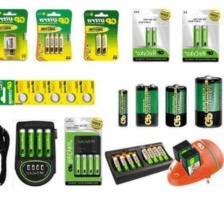battery: (193, 74, 222, 129), (134, 81, 159, 129), (165, 81, 186, 128), (181, 146, 201, 177), (116, 84, 129, 131), (171, 137, 191, 166), (1, 32, 18, 58), (17, 126, 28, 159), (34, 126, 45, 158), (43, 126, 53, 158), (140, 148, 155, 166), (27, 126, 35, 158), (118, 154, 132, 172), (92, 32, 102, 57), (124, 153, 137, 170), (129, 151, 142, 168), (147, 147, 160, 164), (156, 144, 169, 161), (151, 146, 165, 161), (201, 24, 209, 49), (100, 32, 108, 56), (73, 152, 81, 176), (149, 26, 158, 47), (112, 156, 123, 173), (56, 32, 64, 55), (144, 26, 152, 49), (80, 153, 88, 176), (64, 91, 77, 105), (86, 153, 94, 175), (93, 153, 101, 175), (49, 91, 62, 104), (80, 90, 92, 104), (194, 24, 201, 48), (52, 32, 59, 55), (16, 91, 29, 103), (43, 32, 50, 53), (32, 92, 44, 102)
